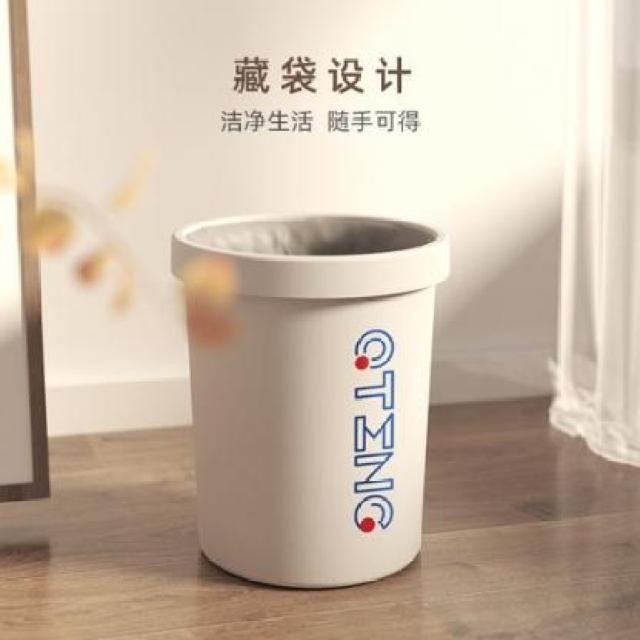dustbin: (166, 208, 453, 592)
